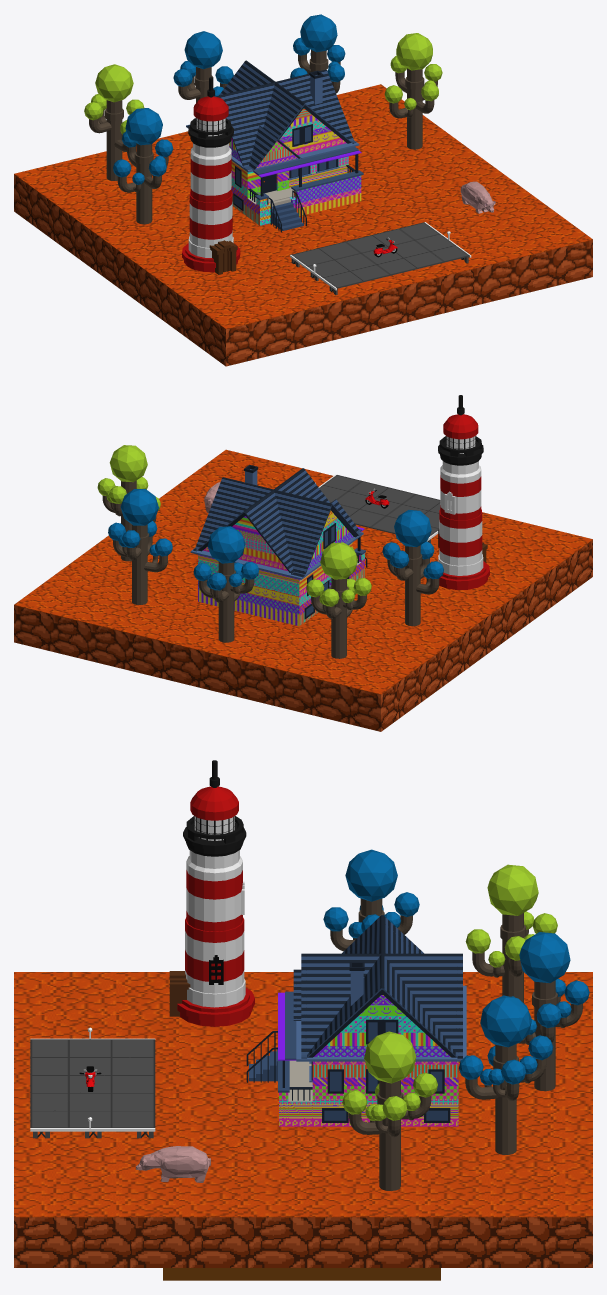
3 renders of one model, top to bottom at view 1: azimuth 30°, elevation 25°; view 2: azimuth 150°, elevation 25°; view 3: azimuth 270°, elevation 25°, orthographic. The views are drawn at different scales.
Visible parts, largest first — view 1: Cube.001, Cube.676, OBJRANDOM_LIGHTHOUSE, ANIMAL_HIPOPOTAMO; view 2: Cube.001, Cube.676, OBJRANDOM_LIGHTHOUSE; view 3: Cube.001, Cube.676, OBJRANDOM_LIGHTHOUSE, UNDERGROUND_ART_PIECE_VAN_GOGH, ANIMAL_HIPOPOTAMO.
Boxes of the visible parts, box(x1,y1,x2,y2) form: Cube.001: box(14, 14, 592, 366); Cube.676: box(186, 60, 363, 232); OBJRANDOM_LIGHTHOUSE: box(182, 77, 240, 274); ANIMAL_HIPOPOTAMO: box(460, 181, 495, 213); Cube.001: box(14, 445, 592, 731); Cube.676: box(190, 464, 367, 626); OBJRANDOM_LIGHTHOUSE: box(438, 395, 489, 589); Cube.001: box(14, 849, 592, 1267); Cube.676: box(246, 915, 466, 1126); OBJRANDOM_LIGHTHOUSE: box(169, 760, 254, 1026); UNDERGROUND_ART_PIECE_VAN_GOGH: box(163, 1268, 440, 1280); ANIMAL_HIPOPOTAMO: box(136, 1146, 210, 1182).
Bounding box in the file's own units: 4000 × 2500 × 4000.
39 materials, 9 textured.
